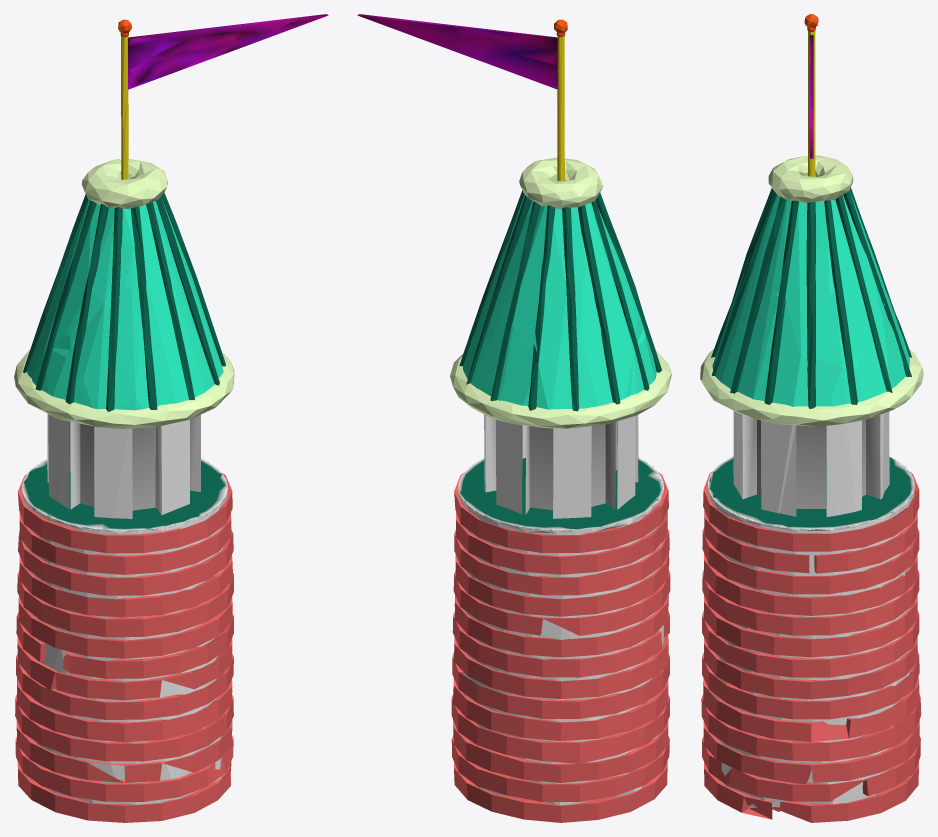
3 renders of one model, left to right at view 1: azimuth 30°, elevation 25°; view 2: azimuth 150°, elevation 25°; view 3: azimuth 270°, elevation 25°, orthographic.
Visible parts, largest first — view 1: BT_09; view 2: BT_09; view 3: BT_09.
Part boxes in pixels (x1,y1,x2,y2): BT_09: (14, 14, 328, 822); BT_09: (357, 14, 671, 822); BT_09: (700, 14, 923, 822).
Size of the model in its own units: 1.24 by 3.02 by 0.8011.
